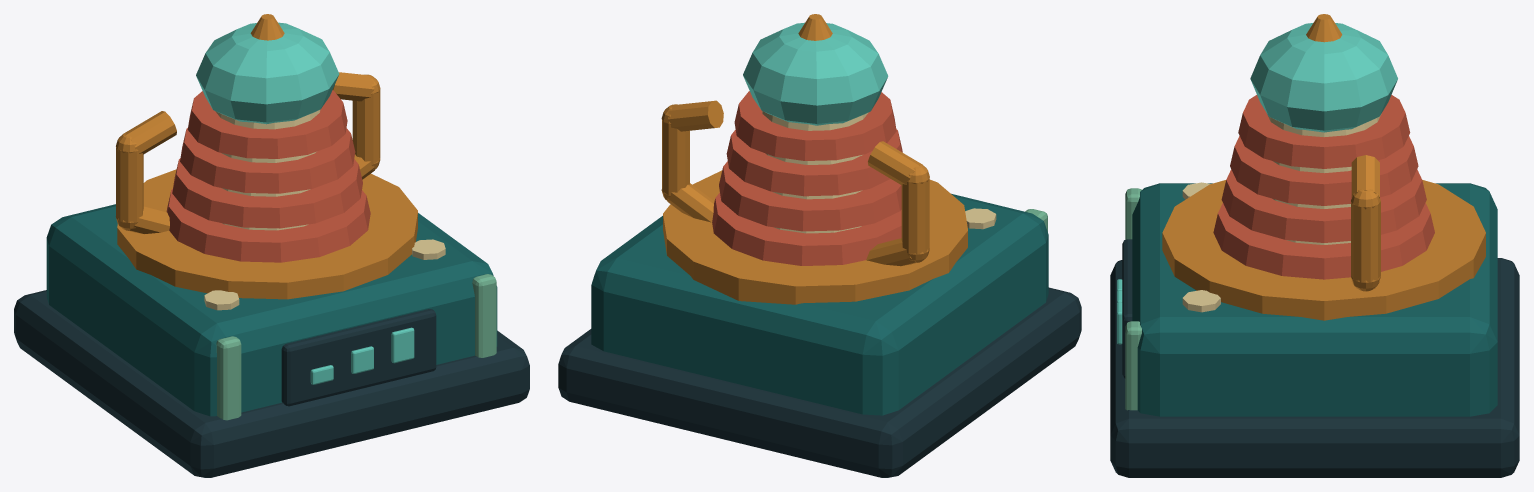
Rendered from PL_ArcDynamo.glb.
3 renders of one model, left to right at view 1: azimuth 30°, elevation 25°; view 2: azimuth 150°, elevation 25°; view 3: azimuth 270°, elevation 25°, orthographic. The views are drawn at different scales.
Parts seen in each view (by area): view 1: ROOT_ArcDynamo_Surface; view 2: ROOT_ArcDynamo_Surface; view 3: ROOT_ArcDynamo_Surface.
Part boxes in pixels (x1=…): ROOT_ArcDynamo_Surface: x1=14, y1=14, x2=529, y2=477; ROOT_ArcDynamo_Surface: x1=558, y1=14, x2=1081, y2=477; ROOT_ArcDynamo_Surface: x1=1110, y1=14, x2=1519, y2=477.
Size of the model in its own units: 1.8 by 1.82 by 1.77.
